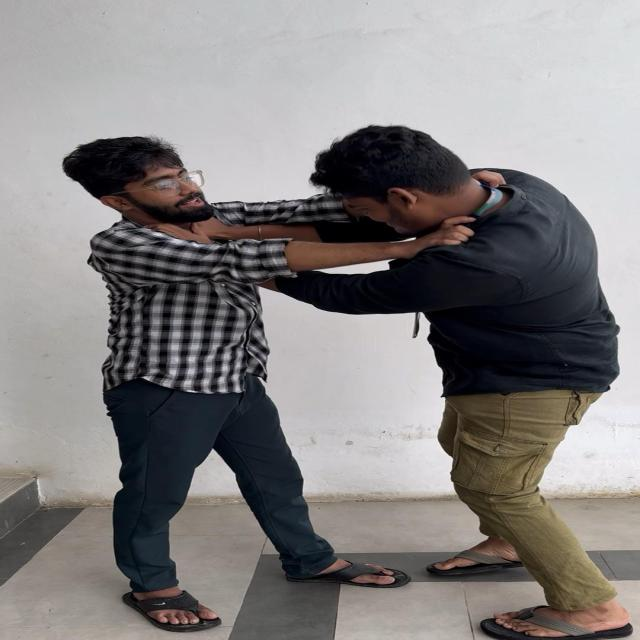fight: (52, 128, 634, 640)
